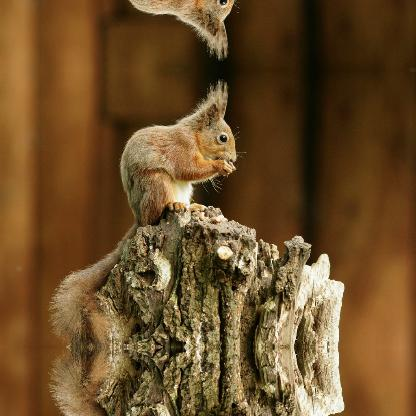Squirrel: (49, 75, 246, 344), (48, 347, 246, 415), (48, 0, 246, 63)
